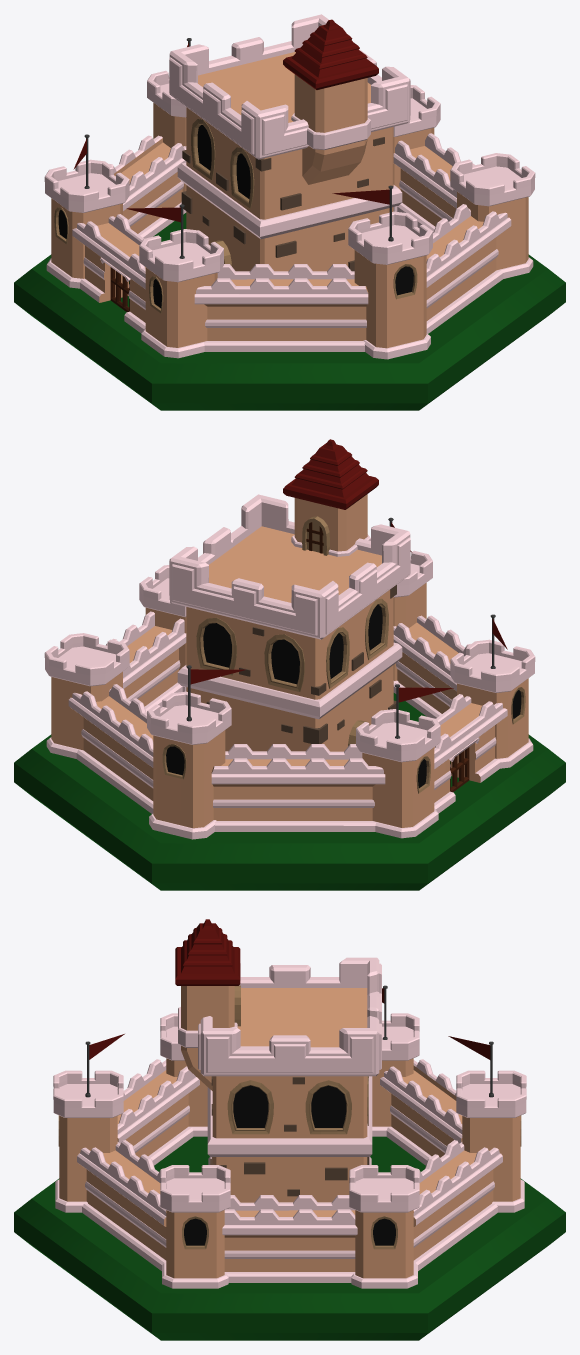
The model's file is castle_Hexagon_1.obj.
The picture shows the model from 3 angles, top to bottom: view 1: azimuth 30°, elevation 25°; view 2: azimuth 150°, elevation 25°; view 3: azimuth 270°, elevation 25°; orthographic projection.
Parts seen in each view (by area): view 1: Cube.010, Cube.047, normal_forest.001; view 2: Cube.010, Cube.047, normal_forest.001; view 3: Cube.010, Cube.047, normal_forest.001.
Boxes of the visible parts, left/top/right/bottom form: Cube.010: left=44, top=70, right=535, bottom=359; Cube.047: left=169, top=14, right=410, bottom=271; normal_forest.001: left=14, top=213, right=565, bottom=410; Cube.010: left=44, top=550, right=535, bottom=839; Cube.047: left=169, top=439, right=410, bottom=751; normal_forest.001: left=14, top=693, right=565, bottom=890; Cube.010: left=53, top=1013, right=526, bottom=1288; Cube.047: left=175, top=919, right=381, bottom=1202; normal_forest.001: left=14, top=1136, right=565, bottom=1340.
Size of the model in its own units: 9.24 by 6.94 by 10.67.
